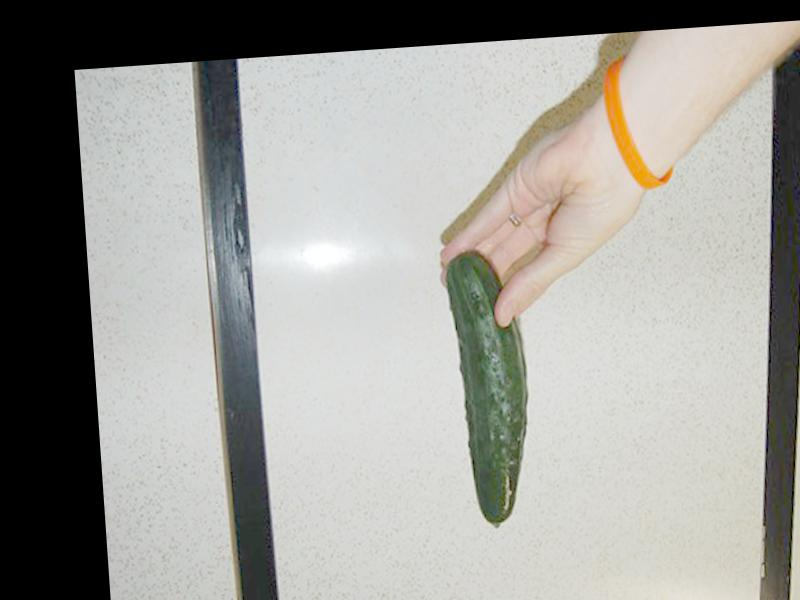Cucumber: (443, 247, 534, 532)
